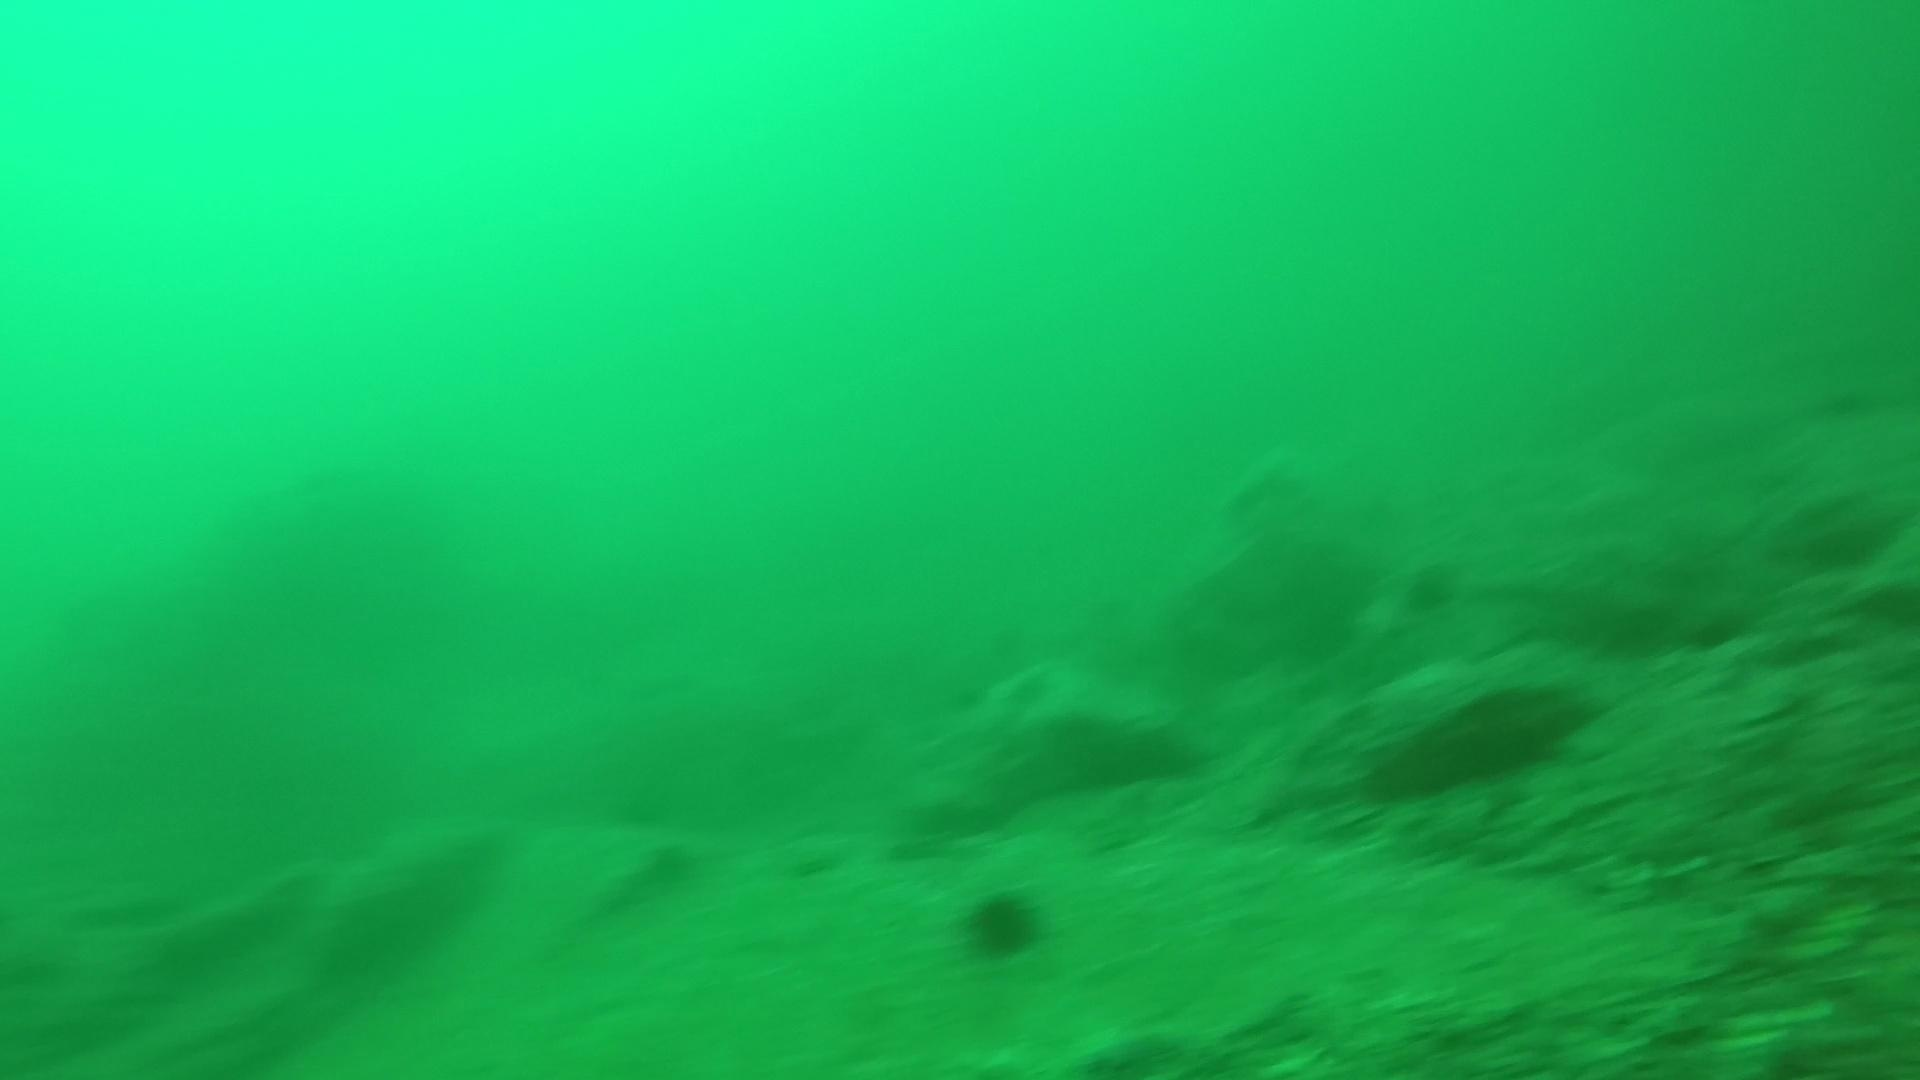echinus: (956, 881, 1048, 964), (1398, 556, 1462, 618)
